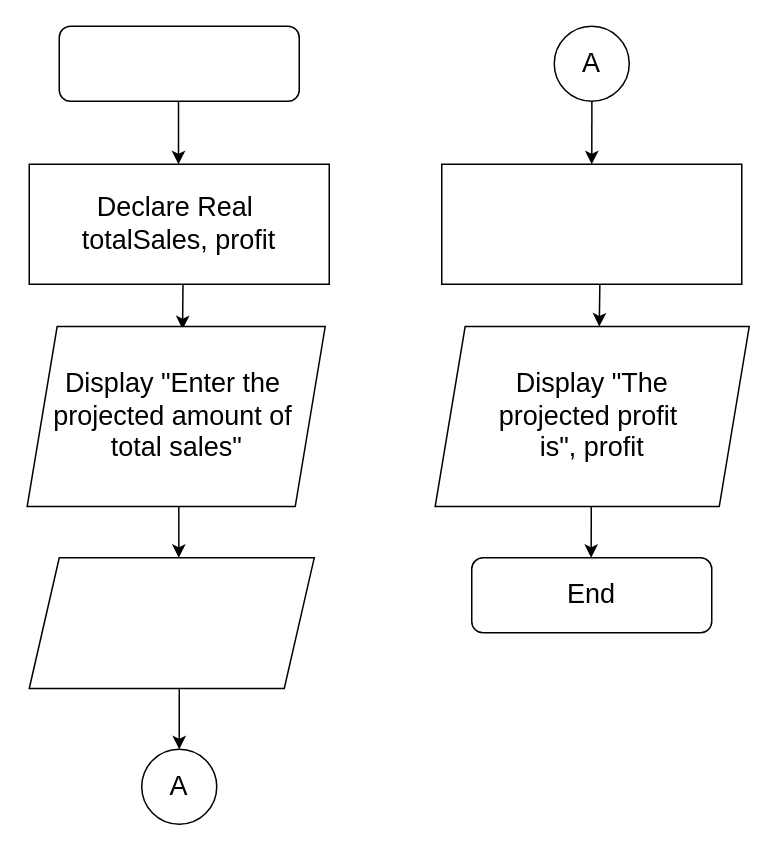
Image size: 776x851. Some labels were removed from this diagram. The centre of each missing label's shape, as x and y in pixels:
Input totalSales: point (171, 622)
Set profit = totalSales * 0.23: point (591, 223)
Start: point (178, 63)
